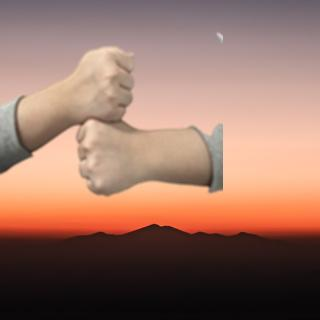CAREFUL: (19, 46, 188, 195)
